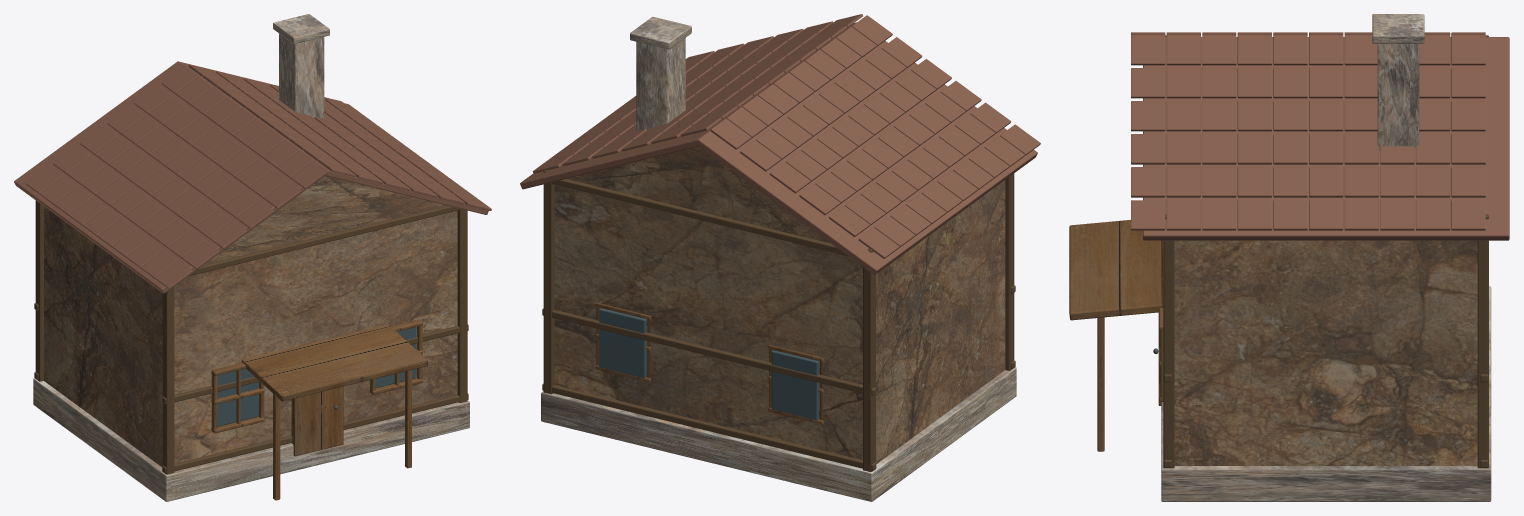
Rendered from house_2.glb.
3 renders of one model, left to right at view 1: azimuth 30°, elevation 25°; view 2: azimuth 150°, elevation 25°; view 3: azimuth 270°, elevation 25°, orthographic. The views are drawn at different scales.
Visible parts, largest first — view 1: plaster walls, roof surface, stone foundation, window jamb, corner timber, window inset; view 2: plaster walls, roof surface, stone foundation, corner timber, window inset, window jamb; view 3: roof surface, plaster walls, stone foundation, window jamb, corner timber.
Boxes of the visible parts, x1,y1,x2,y2 form: plaster walls: (44, 176, 457, 466); roof surface: (14, 61, 491, 293); stone foundation: (33, 14, 469, 501); window jamb: (211, 319, 427, 500); corner timber: (34, 200, 468, 474); window inset: (217, 327, 416, 426); plaster walls: (554, 146, 1005, 463); roof surface: (520, 14, 1040, 274); stone foundation: (541, 17, 1016, 501); corner timber: (542, 169, 1015, 471); window inset: (599, 308, 818, 420); window jamb: (595, 302, 823, 424); roof surface: (1131, 32, 1509, 240); plaster walls: (1174, 240, 1477, 465); stone foundation: (1161, 14, 1491, 501); window jamb: (1069, 220, 1163, 451); corner timber: (1163, 35, 1488, 468).
Size of the model in its own units: 8.95 by 9.14 by 8.4.
7 materials, 3 textured.
